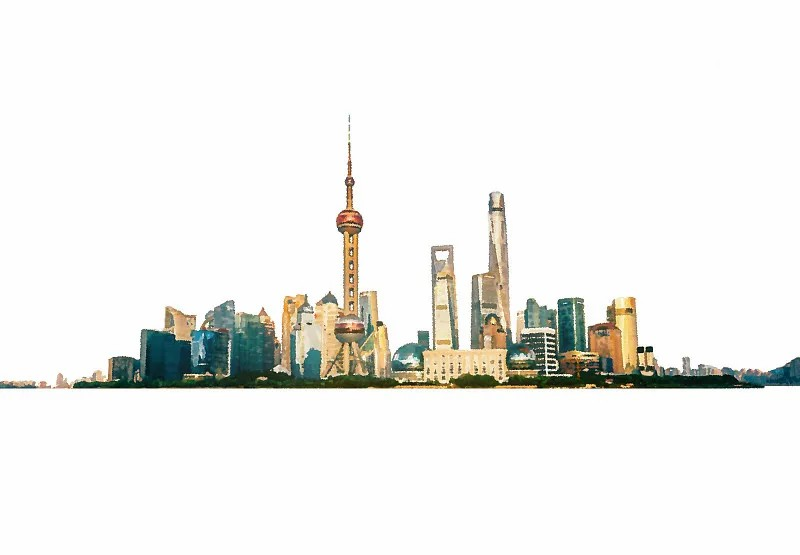Oriental: (323, 116, 367, 373)
